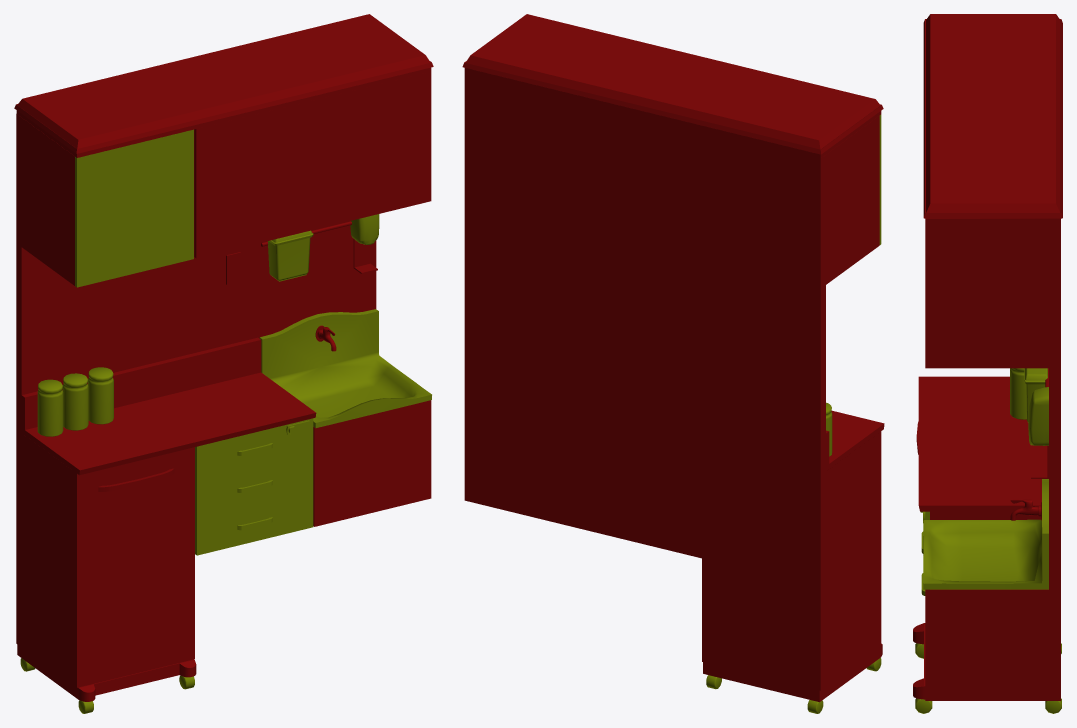
The model's file is SM_WallShelf_01a.FBX.
3 renders of one model, left to right at view 1: azimuth 30°, elevation 25°; view 2: azimuth 150°, elevation 25°; view 3: azimuth 270°, elevation 25°, orthographic. The views are drawn at different scales.
Parts seen in each view (by area): view 1: SM_WallShelf_01a_LOD0; view 2: SM_WallShelf_01a_LOD0; view 3: SM_WallShelf_01a_LOD0.
Part boxes in pixels (<box>): SM_WallShelf_01a_LOD0: <box>14,14,433,713</box>; SM_WallShelf_01a_LOD0: <box>462,14,884,713</box>; SM_WallShelf_01a_LOD0: <box>913,14,1062,713</box>.
Size of what is drawn, in the model's own units: 172 by 264 by 55.95.
